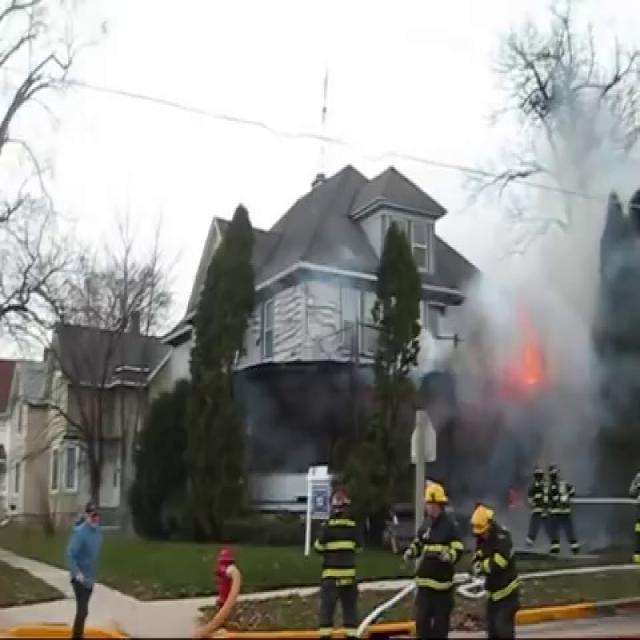Smoke: (436, 39, 640, 516)
